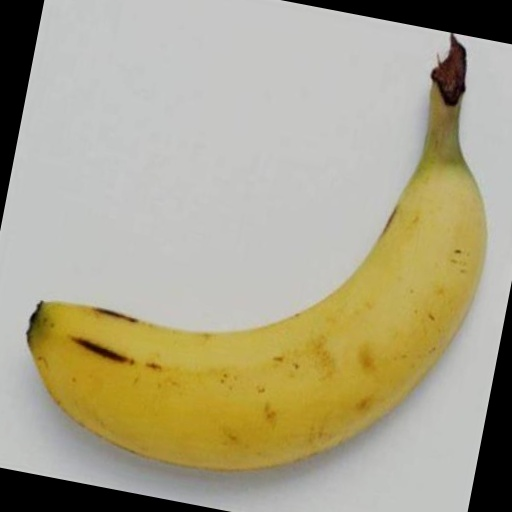fruit: (0, 143, 121, 479)
